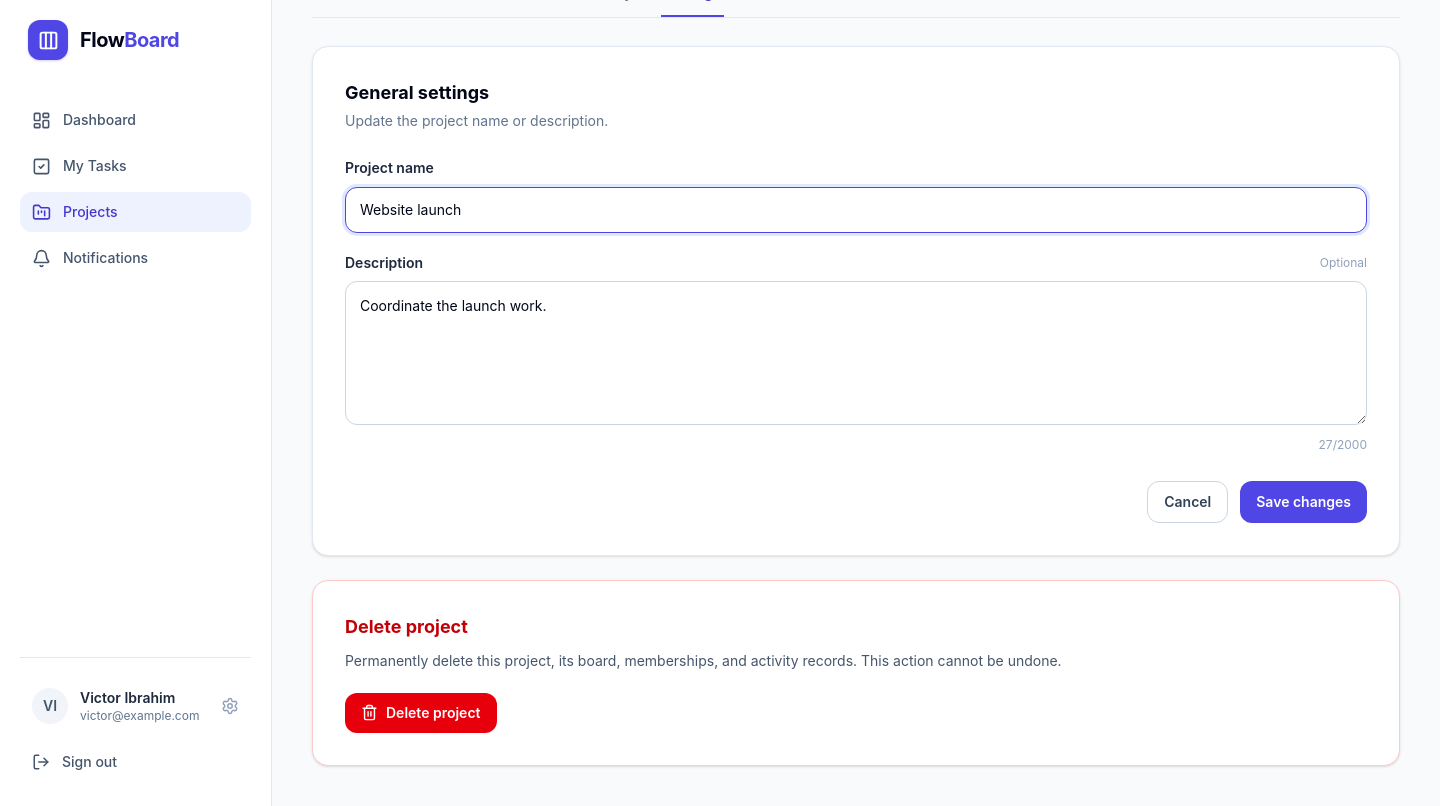
Scenario: FlowBoard project UI › requires confirmation before deleting an owned project
(page scrolled)
Click the button "Delete project" at coordinates (421, 712), box [345, 692, 496, 732]
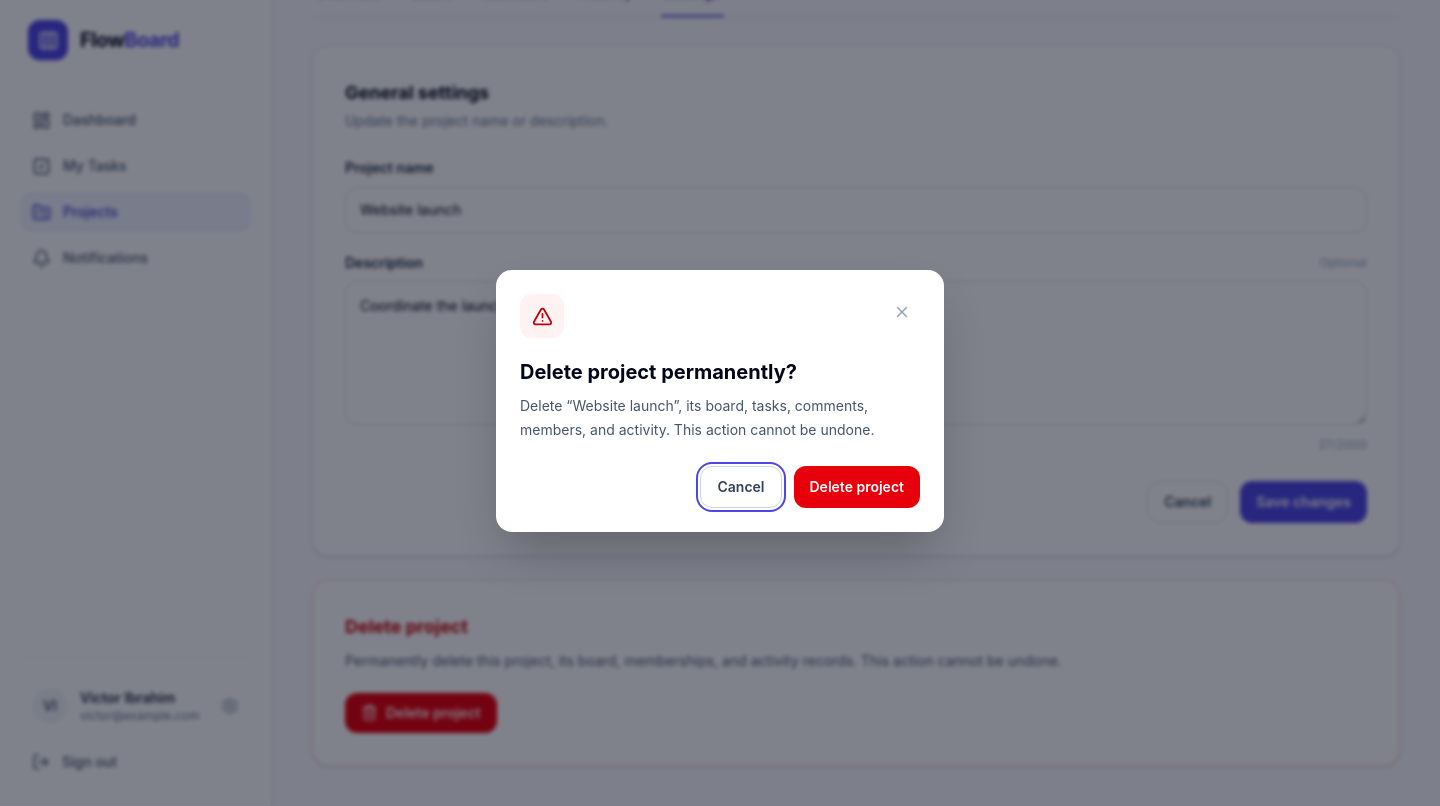
Result: the dialog "Delete project permanently?" is shown at [496, 270, 944, 532]
Result: the text "cannot be undone" is shown at [520, 397, 874, 438]
Click the button "Delete project" at coordinates (857, 487), box [794, 466, 920, 508]
(page scrolled)
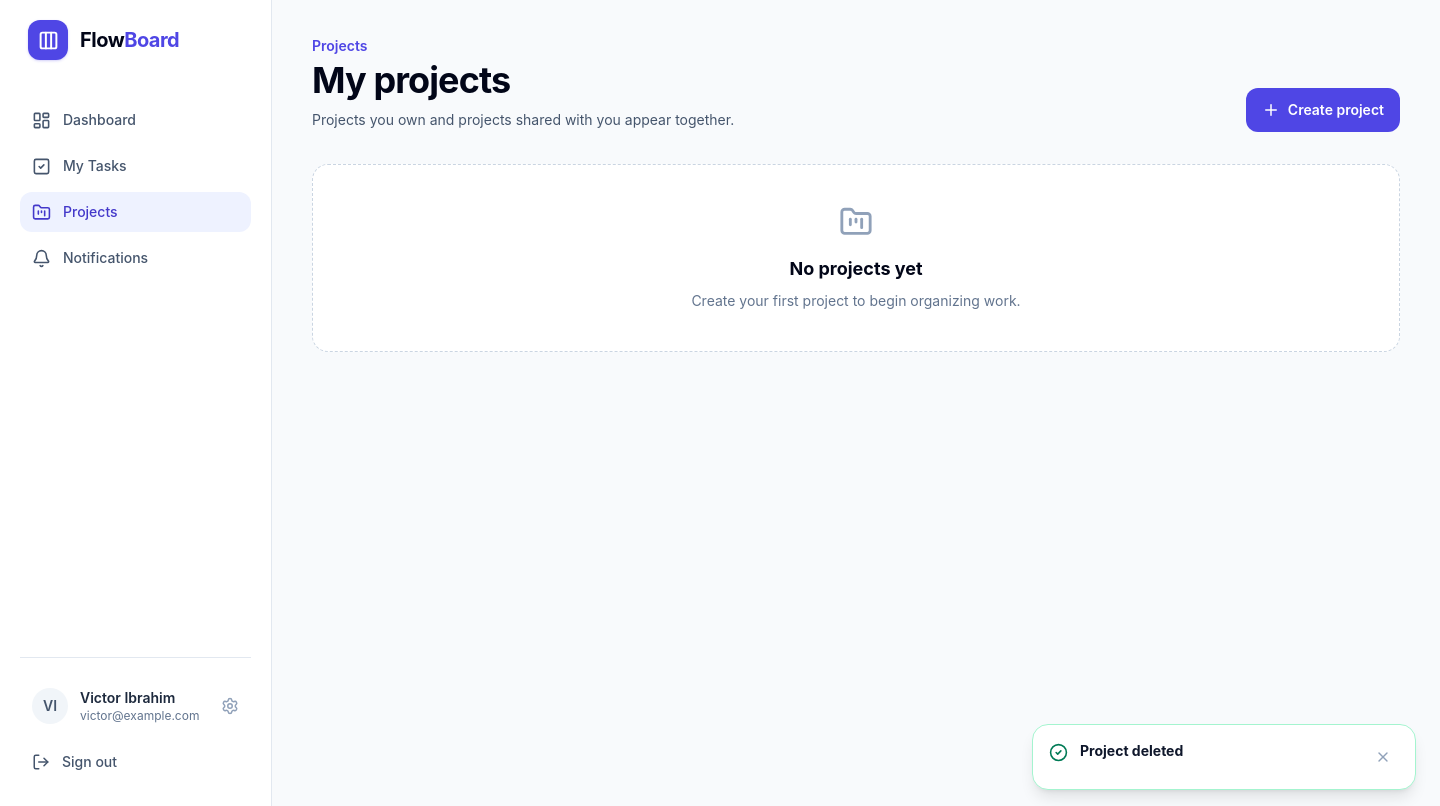
Result: the heading "My projects" is shown at [312, 58, 510, 102]
